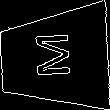M_W: (33, 34, 76, 83)
